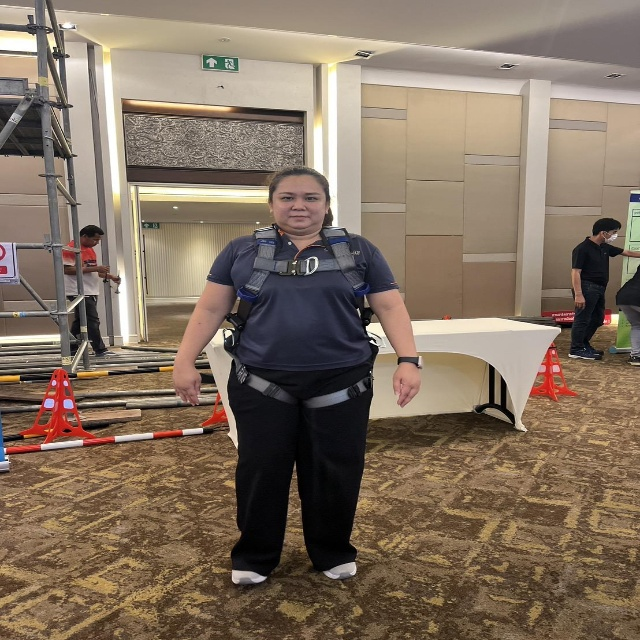Arnes_seguridad: (220, 217, 386, 421)
